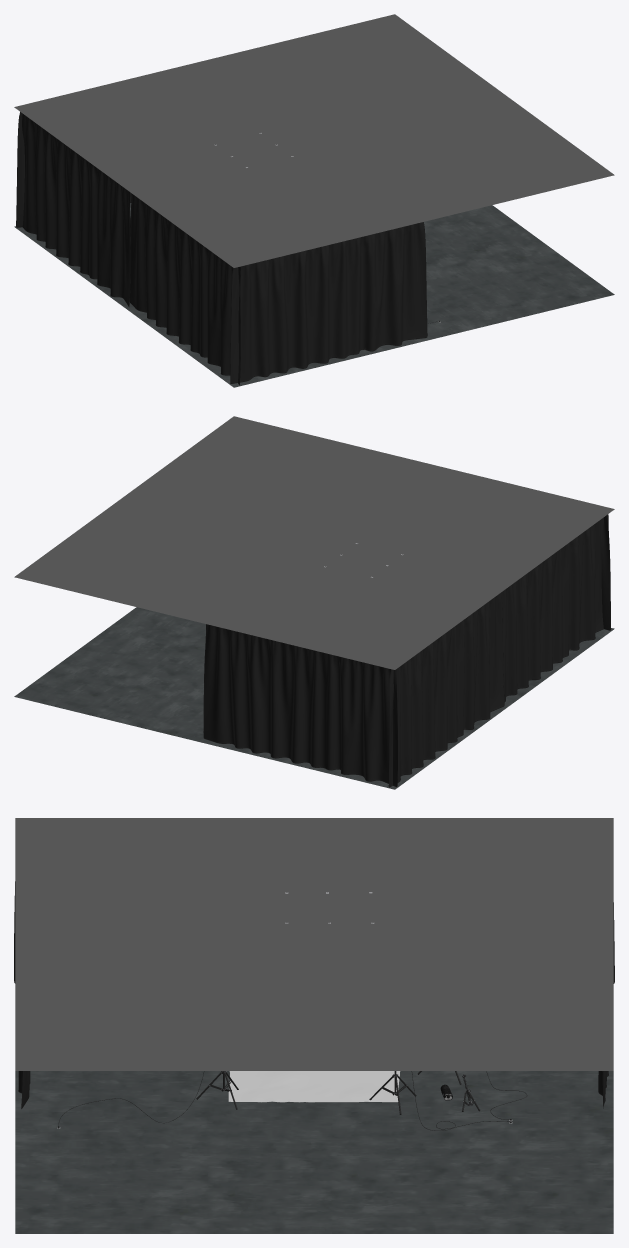
The model's file is photo_studio.glb.
3 renders of one model, top to bottom at view 1: azimuth 30°, elevation 25°; view 2: azimuth 150°, elevation 25°; view 3: azimuth 270°, elevation 25°, orthographic. The views are drawn at different scales.
Parts seen in each view (by area): view 1: Studio Setup_Ceiling_Studio_Setup_Mtl_19.001_0, Studio Setup_Curtain_8_Studio_Fabric_3_0, Studio Setup_Floor.001_Studio_Plastic_1_0, Studio Setup_Curtain_1_Studio_Fabric_3_0, Studio Setup_Curtain_2_Studio_Fabric_3_0, Studio Setup_Curtain_3.001_Studio_Fabric_3_0; view 2: Studio Setup_Ceiling_Studio_Setup_Mtl_19.001_0, Studio Setup_Curtain_3.001_Studio_Fabric_3_0, Studio Setup_Floor.001_Studio_Plastic_1_0, Studio Setup_Curtain_1_Studio_Fabric_3_0, Studio Setup_Curtain_2_Studio_Fabric_3_0, Studio Setup_Curtain_8_Studio_Fabric_3_0; view 3: Studio Setup_Ceiling_Studio_Setup_Mtl_19.001_0, Studio Setup_Floor.001_Studio_Plastic_1_0, Studio Setup_Backdrop_1_Studio_Setup_Mtl_1.001_0.
Boxes of the visible parts, x1,y1,x2,y2 form: Studio Setup_Ceiling_Studio_Setup_Mtl_19.001_0: (14, 14, 614, 267); Studio Setup_Curtain_8_Studio_Fabric_3_0: (230, 222, 427, 383); Studio Setup_Floor.001_Studio_Plastic_1_0: (14, 203, 614, 387); Studio Setup_Curtain_1_Studio_Fabric_3_0: (22, 114, 130, 306); Studio Setup_Curtain_2_Studio_Fabric_3_0: (129, 193, 240, 385); Studio Setup_Curtain_3.001_Studio_Fabric_3_0: (16, 112, 131, 227); Studio Setup_Ceiling_Studio_Setup_Mtl_19.001_0: (14, 416, 614, 669); Studio Setup_Curtain_3.001_Studio_Fabric_3_0: (203, 624, 398, 787); Studio Setup_Floor.001_Studio_Plastic_1_0: (14, 607, 614, 789); Studio Setup_Curtain_1_Studio_Fabric_3_0: (388, 593, 504, 787); Studio Setup_Curtain_2_Studio_Fabric_3_0: (501, 517, 603, 701); Studio Setup_Curtain_8_Studio_Fabric_3_0: (601, 514, 610, 630); Studio Setup_Ceiling_Studio_Setup_Mtl_19.001_0: (15, 818, 613, 1070); Studio Setup_Floor.001_Studio_Plastic_1_0: (15, 1071, 613, 1233); Studio Setup_Backdrop_1_Studio_Setup_Mtl_1.001_0: (228, 1071, 400, 1102).
Size of the model in its own units: 10.01 by 3.03 by 10.04.
20 materials, 3 textured.
